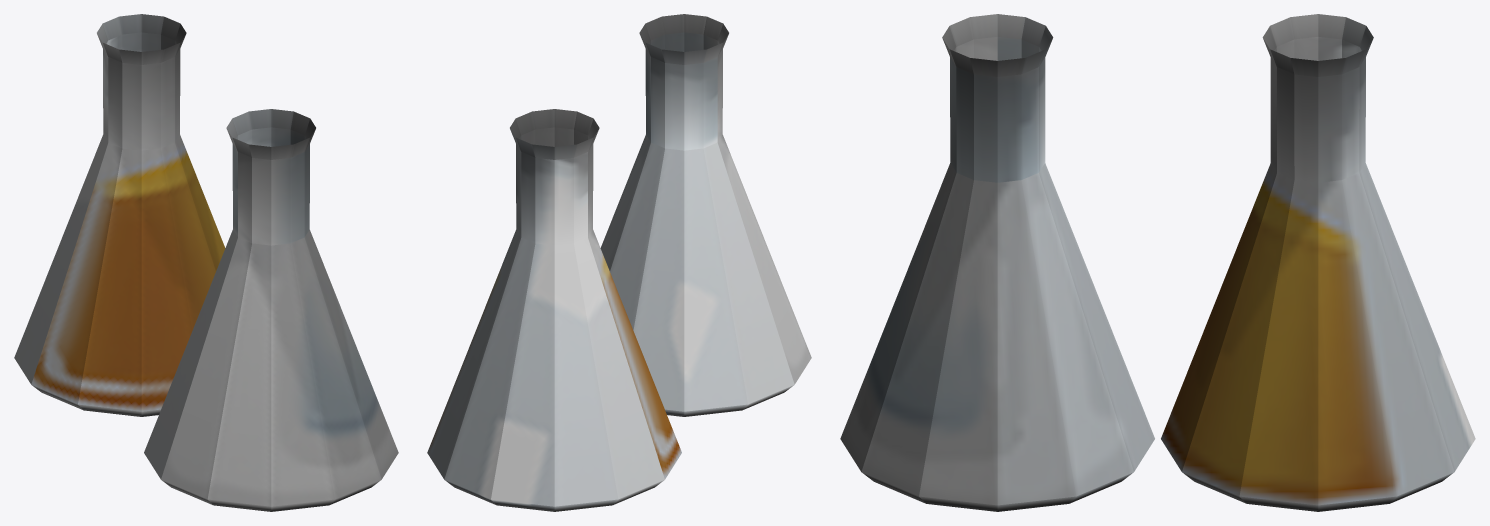
Rendered from Tx_props_flask_50.fbx.
The picture shows the model from 3 angles, left to right: view 1: azimuth 30°, elevation 25°; view 2: azimuth 150°, elevation 25°; view 3: azimuth 270°, elevation 25°; orthographic projection. The views are drawn at different scales.
Parts seen in each view (by area): view 1: Tx_props_flask_7; view 2: Tx_props_flask_7; view 3: Tx_props_flask_7.
Part boxes in pixels (x1,y1,x2,y2): Tx_props_flask_7: (14, 14, 398, 511); Tx_props_flask_7: (427, 14, 811, 511); Tx_props_flask_7: (840, 14, 1475, 511).
Size of the model in its own units: 0.6804 by 0.9871 by 1.37.
